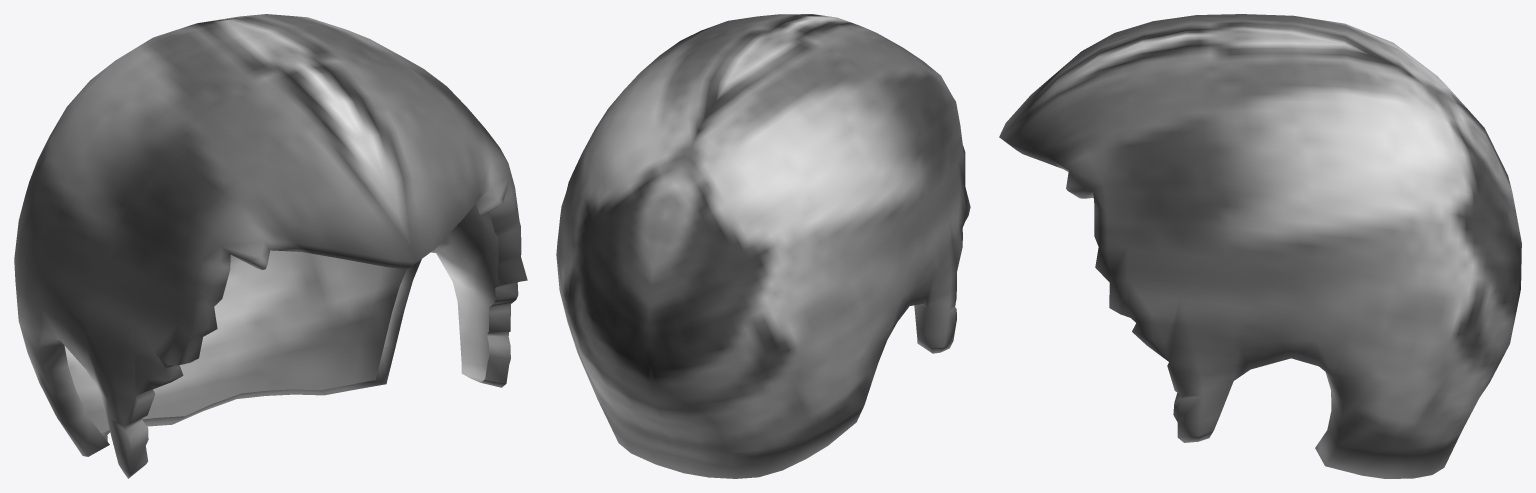
File: buzzed_female.glb
The picture shows the model from 3 angles, left to right: view 1: azimuth 30°, elevation 25°; view 2: azimuth 150°, elevation 25°; view 3: azimuth 270°, elevation 25°; orthographic projection. The views are drawn at different scales.
Parts seen in each view (by area): view 1: Hair_BuzzedFemale; view 2: Hair_BuzzedFemale; view 3: Hair_BuzzedFemale.
Boxes of the visible parts, <box> form: Hair_BuzzedFemale: <box>14,14,527,478</box>; Hair_BuzzedFemale: <box>556,14,970,478</box>; Hair_BuzzedFemale: <box>999,14,1521,478</box>.
Bounding box in the file's own units: 0.1587 × 0.1715 × 0.1969.
1 material, 1 textured.
